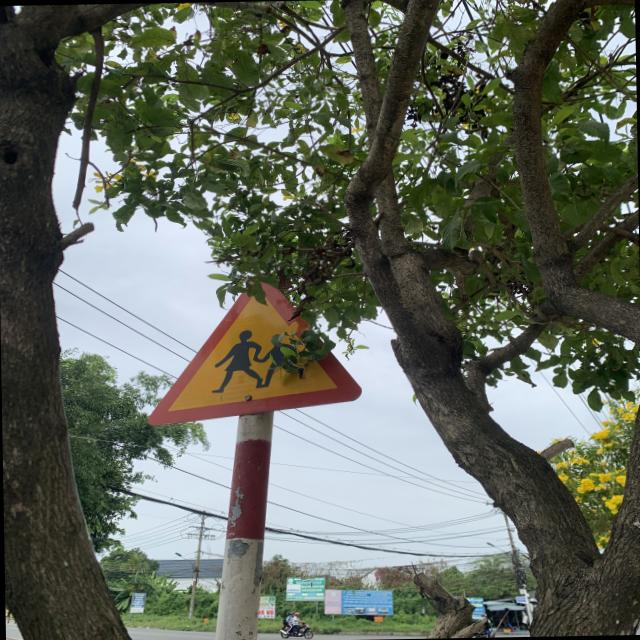Vong_Xuyen: (144, 276, 368, 428)
